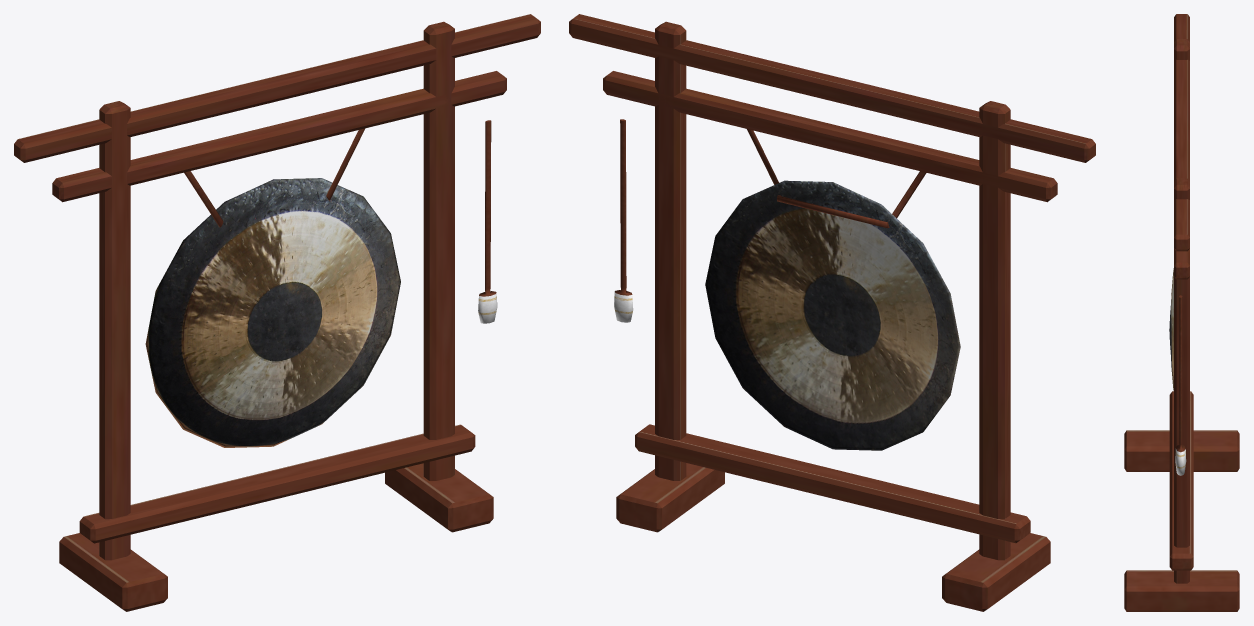
The model's file is gong.glb.
3 views of the same model, side by side, from view 1: azimuth 30°, elevation 25°; view 2: azimuth 150°, elevation 25°; view 3: azimuth 270°, elevation 25° (orthographic). The views are drawn at different scales.
Parts seen in each view (by area): view 1: 10383_Gong_v01_l3; view 2: 10383_Gong_v01_l3; view 3: 10383_Gong_v01_l3.
Boxes of the visible parts, x1,y1,x2,y2 form: 10383_Gong_v01_l3: (14, 14, 540, 611); 10383_Gong_v01_l3: (569, 14, 1095, 611); 10383_Gong_v01_l3: (1124, 14, 1239, 611).
Bounding box in the file's own units: 2.53 × 2.23 × 0.5505.
Materials: 1 (1 with a texture image).
